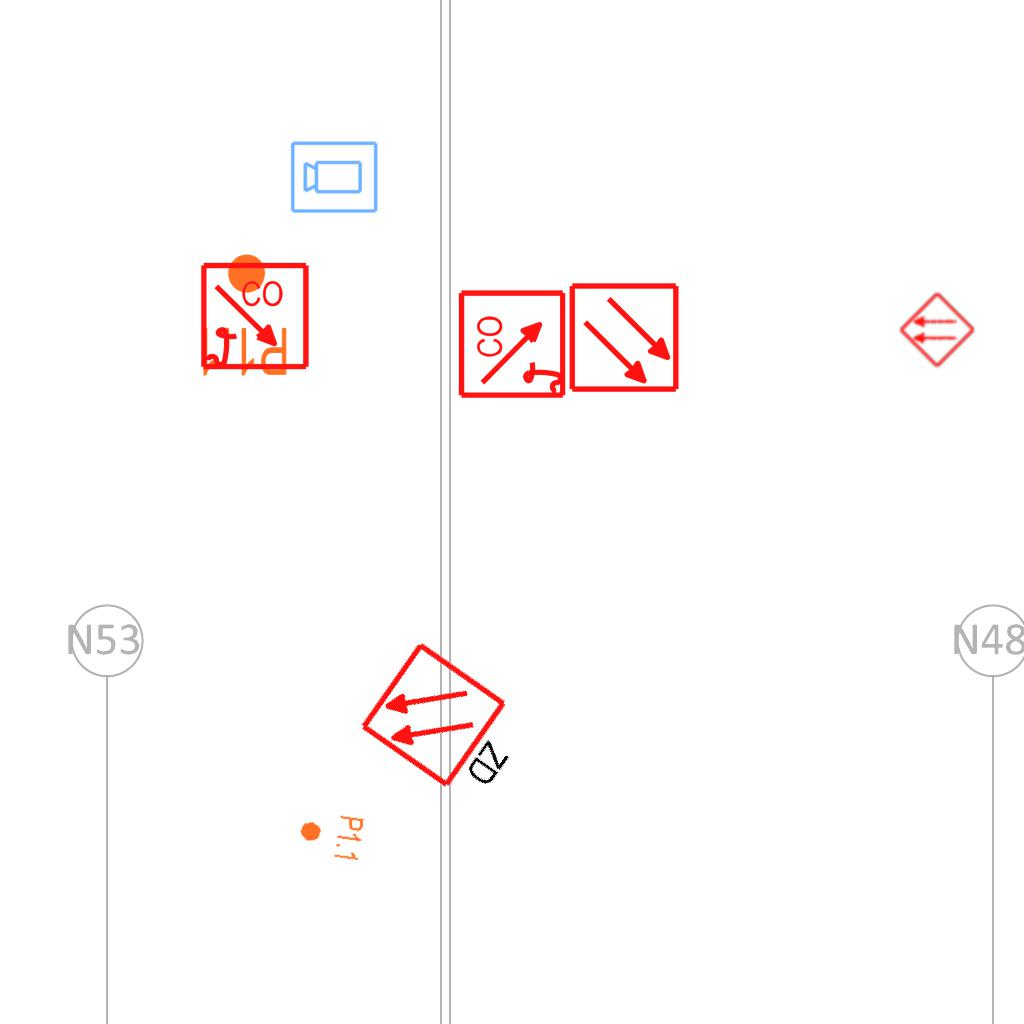Downlight_LED_Einbauleuchten_Flur: (197, 251, 290, 379), (296, 808, 366, 864)
KFO_Kamera_mit_Festobjektiv: (289, 138, 380, 215)
RMO_Rauchmelder_optischer: (568, 281, 681, 394), (897, 290, 977, 370)
ROA_Rauchmelder_optisch_mit_Signalgeber_(Sockelsirene): (457, 287, 570, 400), (199, 261, 312, 374)
ZD_Melder_in_Zwischendecke_mit_Revisionsoeffnung_mind_40_x_40_cm: (356, 635, 544, 814)
